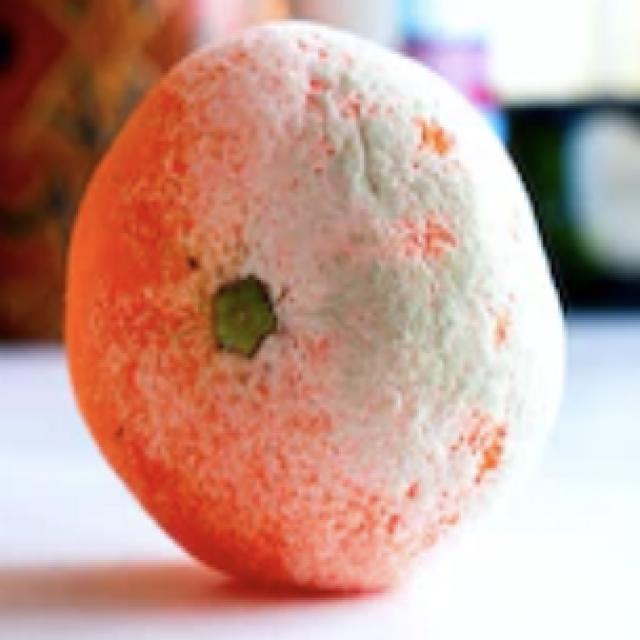rotten-orange: (65, 20, 556, 590)
